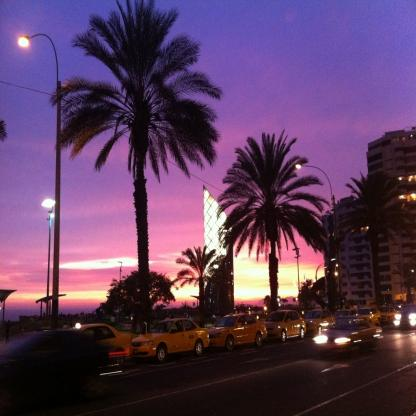Car: (65, 296, 416, 370)
